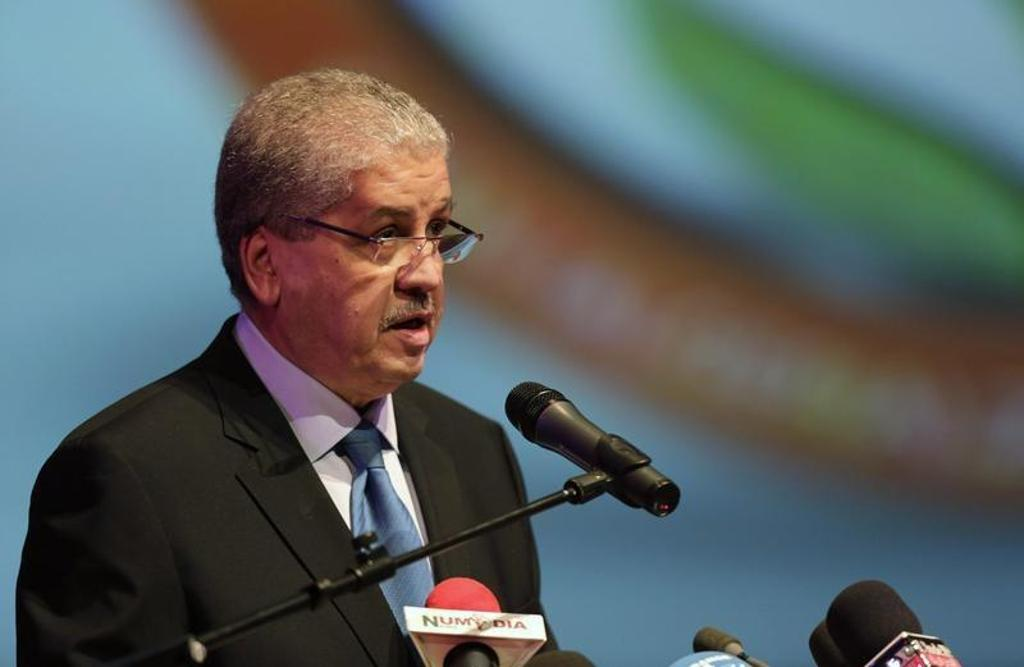face: (276, 138, 456, 386)
